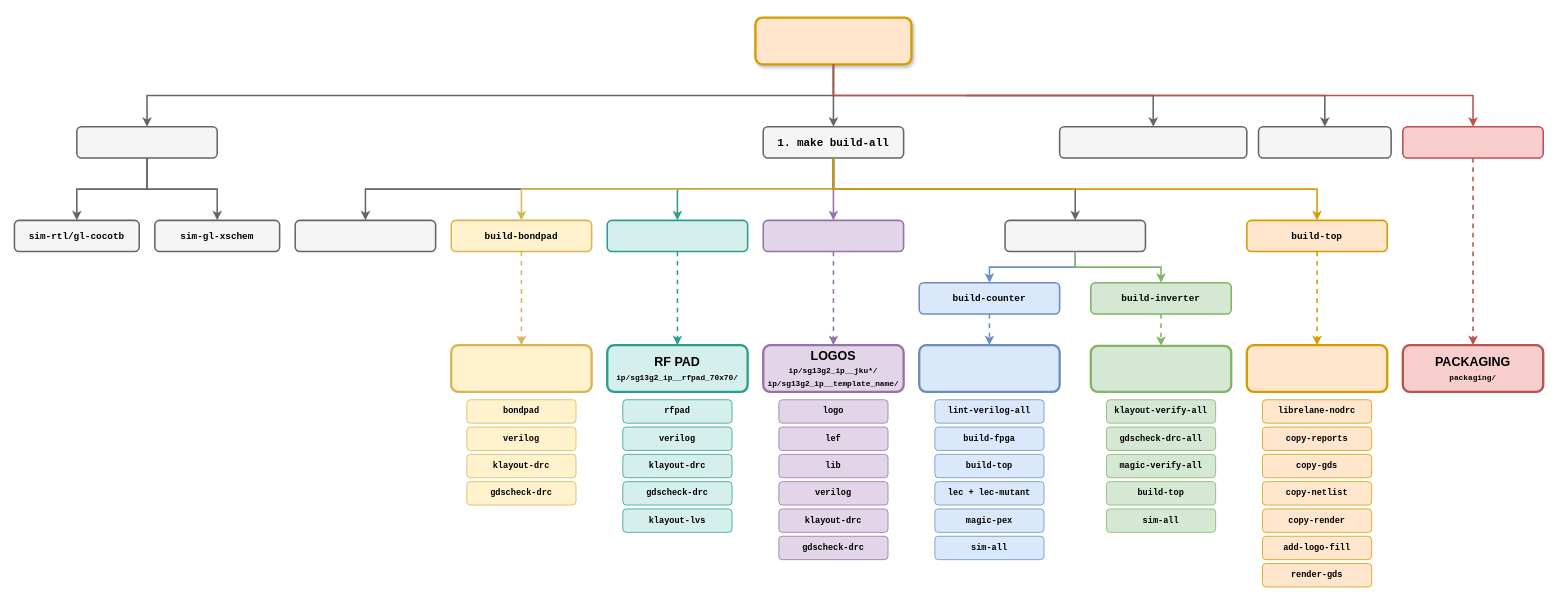
Some shapes in this 1558 by 601 pixel diagram are drawn without their labels. Here are the shapes that lost their labels. From the top down, the centre of each, then its label:
(x=834, y=42): make all
(x=147, y=142): 4. make sim-all
(x=1152, y=142): 2. make klayout-drc-regular make gdscheck-drc-regular
(x=1324, y=142): 3. make klayout-lvs make magic-lvs
(x=1473, y=142): 5. make bondplan
(x=365, y=235): init-submodules
(x=677, y=235): build-rfpad
(x=833, y=235): build-logos
(x=1075, y=235): build-macros
(x=521, y=368): BONDPAD ip/sg13g2_ip__bondpad_70x70/
(x=989, y=368): DIGITAL macros/counter/
(x=1160, y=368): ANALOG macros/inverter/
(x=1316, y=368): TOP CHIP top-level Makefile
